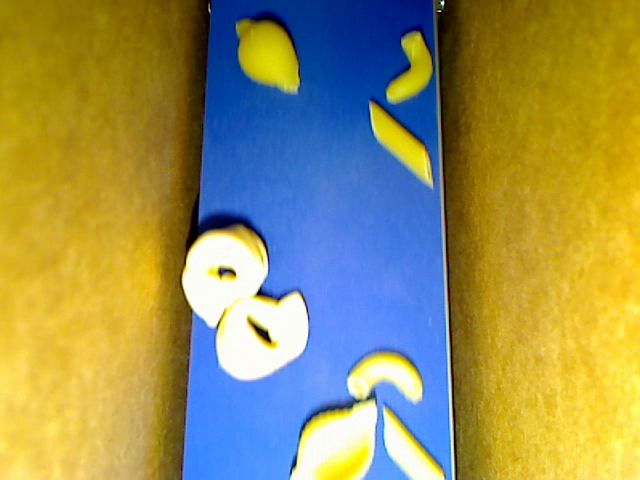elbow: (347, 349, 423, 403), (385, 31, 433, 103)
penne: (367, 99, 433, 188), (382, 404, 445, 479)
shell: (288, 398, 378, 479), (234, 19, 301, 96)
tortellini: (181, 223, 269, 329), (215, 290, 309, 383)
